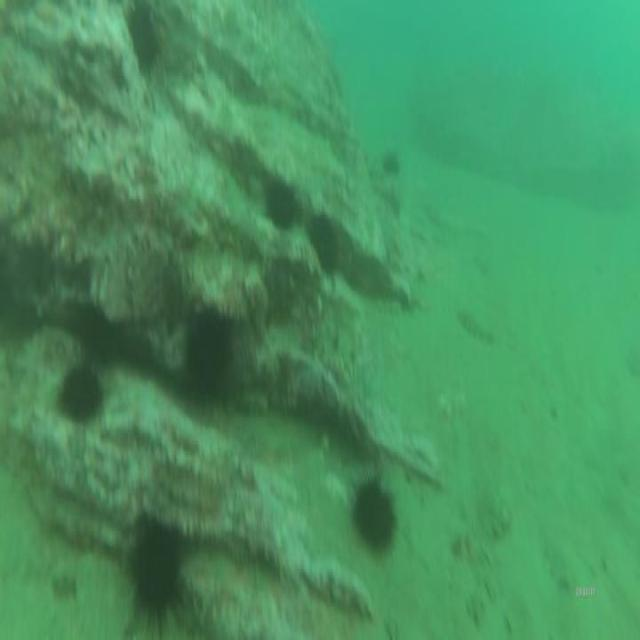echinus: (119, 505, 188, 640), (178, 305, 237, 423), (345, 468, 402, 561), (54, 352, 110, 433), (122, 0, 168, 85), (306, 206, 344, 284), (262, 171, 300, 234)
